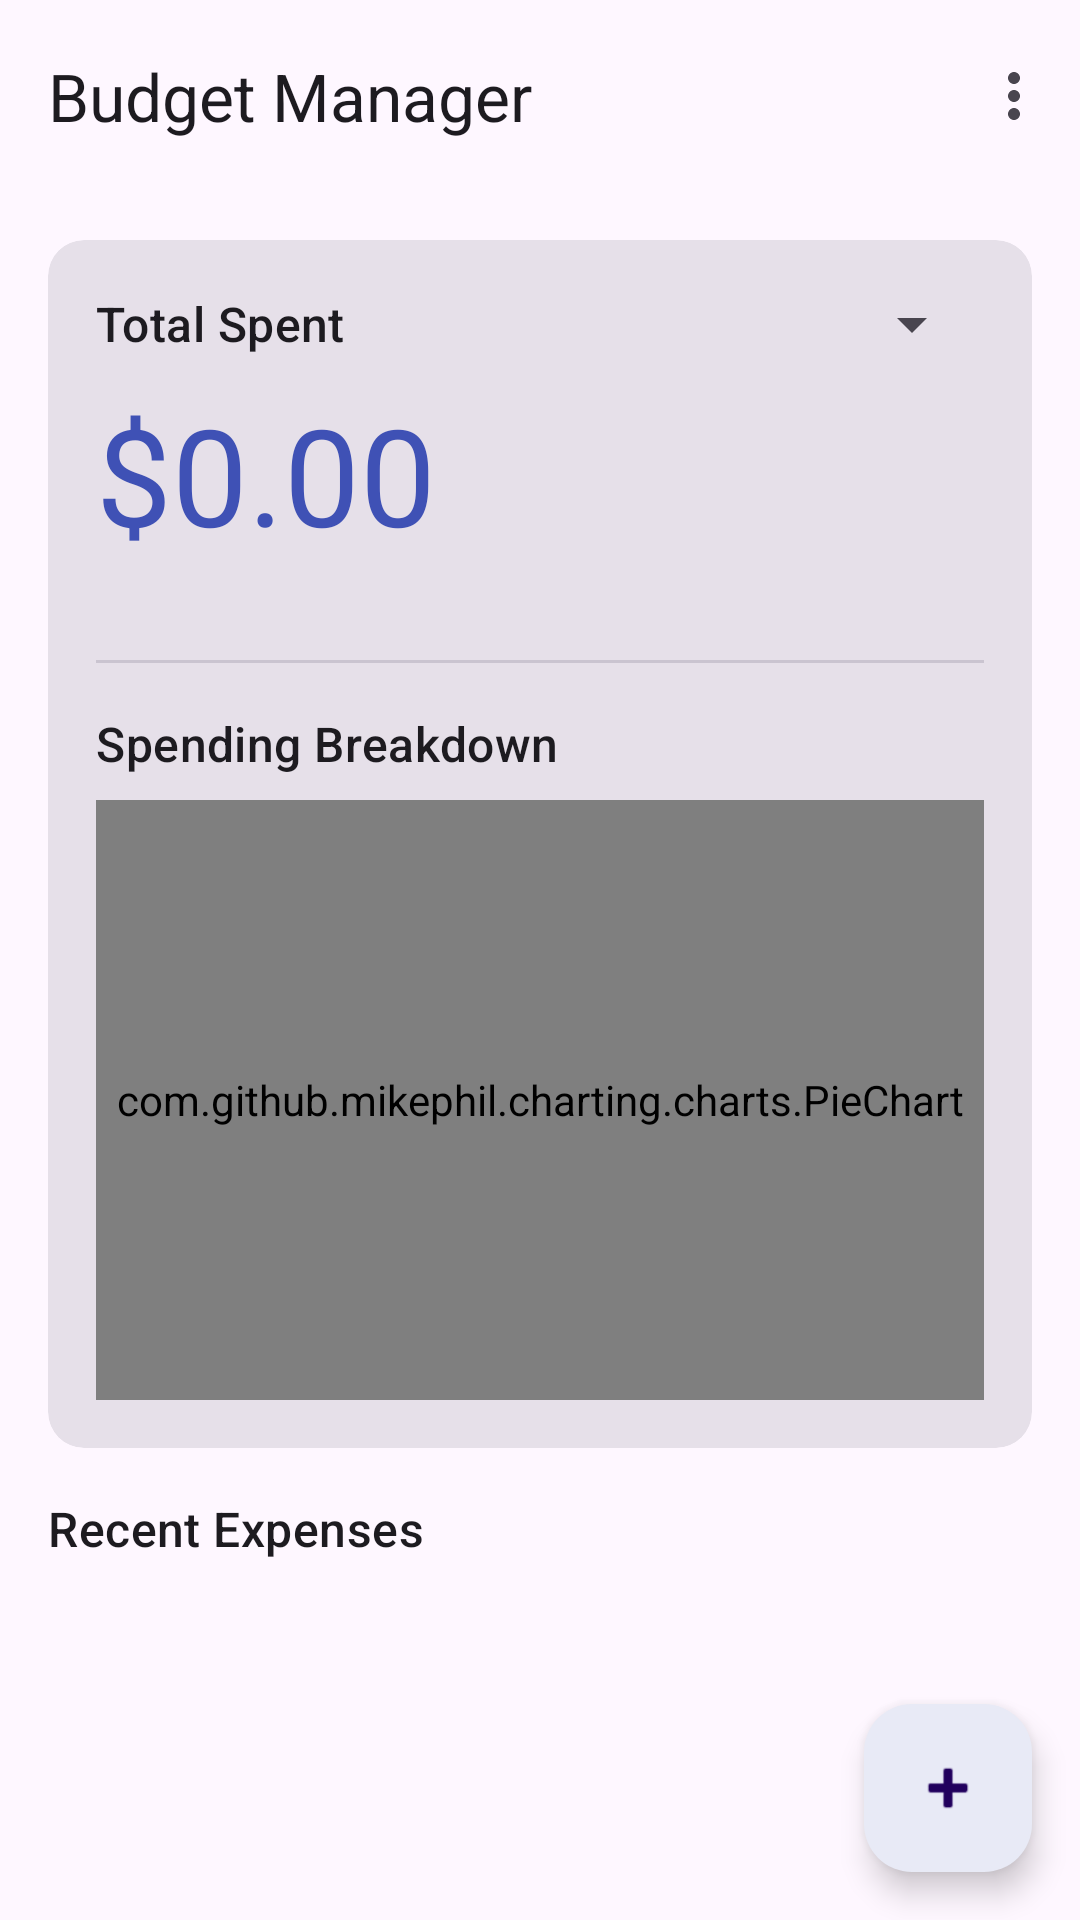

Point at icon controls on the screen. Image size 1080×1920, points as (x=x, y=y).
Add Expense: (x=948, y=1788)
